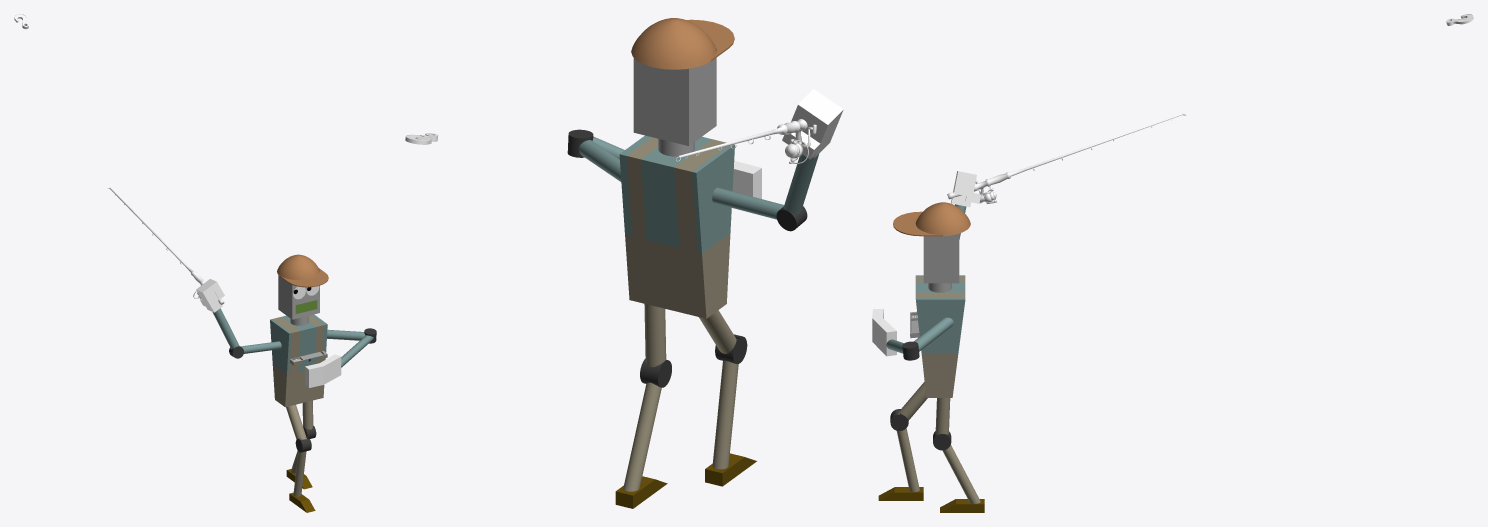
3 views of the same model, side by side, from view 1: azimuth 30°, elevation 25°; view 2: azimuth 150°, elevation 25°; view 3: azimuth 270°, elevation 25° (orthographic). The views are drawn at different scales.
Parts seen in each view (by area): view 1: Layer0_001; view 2: Layer0_001, Component#11_001; view 3: Layer0_001, Component#11_001.
Part boxes in pixels (x1,y1,x2,y2): Layer0_001: (196,254,376,512); Layer0_001: (567,18,843,508); Component#11_001: (676,119,807,161); Layer0_001: (872,171,984,512); Component#11_001: (947,113,1185,199).
Bounding box in the file's own units: 25378 × 51666 × 63576.
